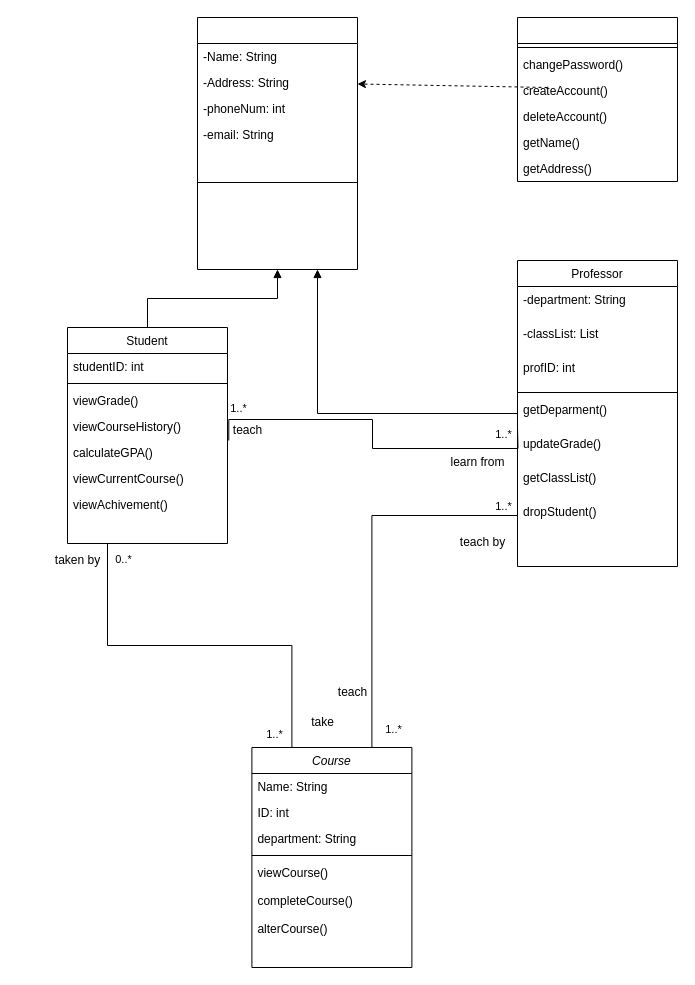
This 695x985 diagram has some shape labels left out. The shapes that lost their labels are listed below. From the top down, each one's box as (x1, y1, x2, y2) in pixels, then its label:
(516, 16, 678, 182): UserInterace
(196, 16, 358, 270): Person
